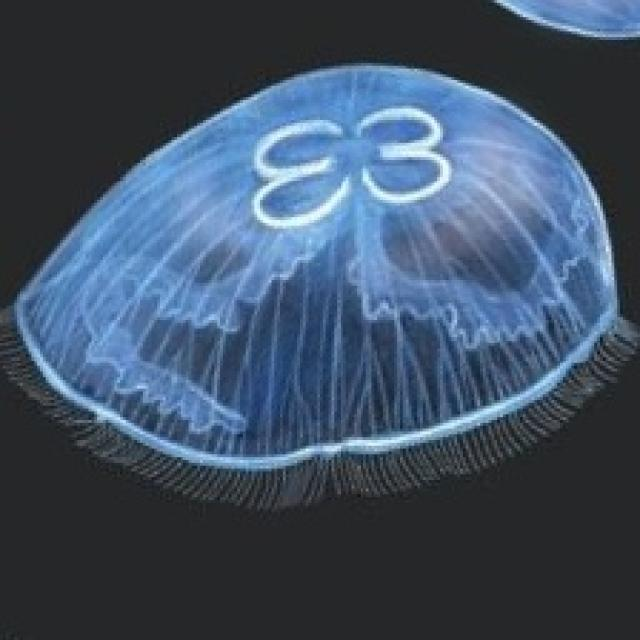Moon-jellyfish: (0, 57, 637, 512)
